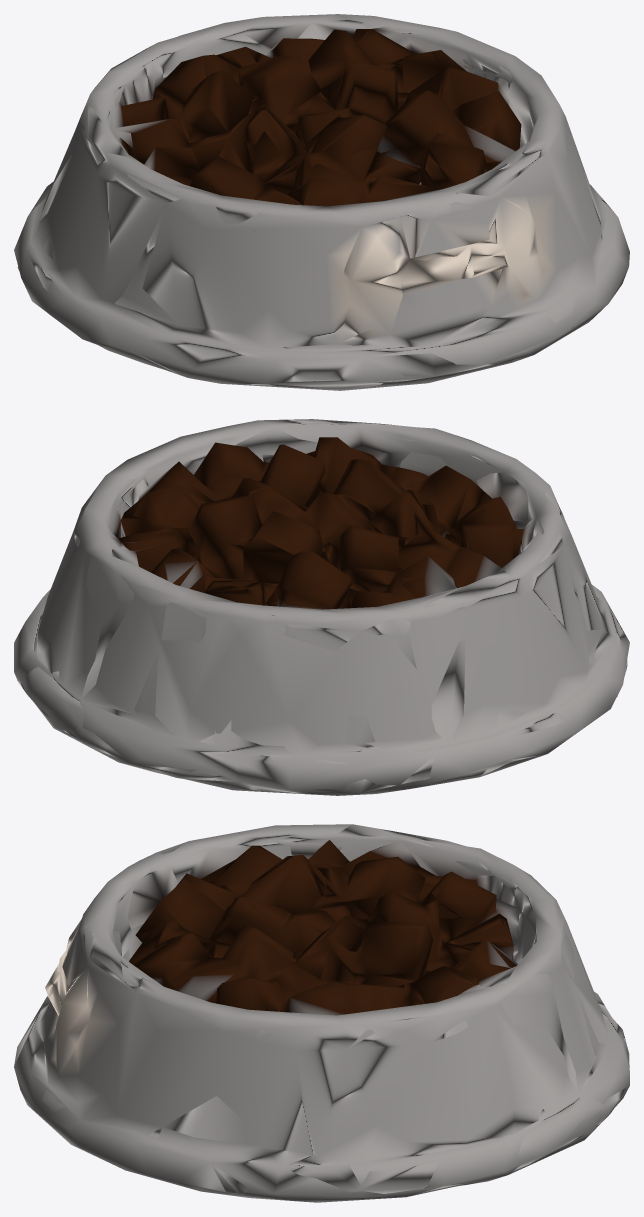
File: gen3d-dog-bowl-lod0.glb
3 views of the same model, one above another, from view 1: azimuth 30°, elevation 25°; view 2: azimuth 150°, elevation 25°; view 3: azimuth 270°, elevation 25° (orthographic).
Visible parts, largest first — view 1: part_0; view 2: part_0; view 3: part_0.
Boxes of the visible parts, x1,y1,x2,y2 form: part_0: (14,14,629,390); part_0: (14,419,629,795); part_0: (14,824,629,1202).
Bounding box in the file's own units: 2.75 × 0.9935 × 2.76.
